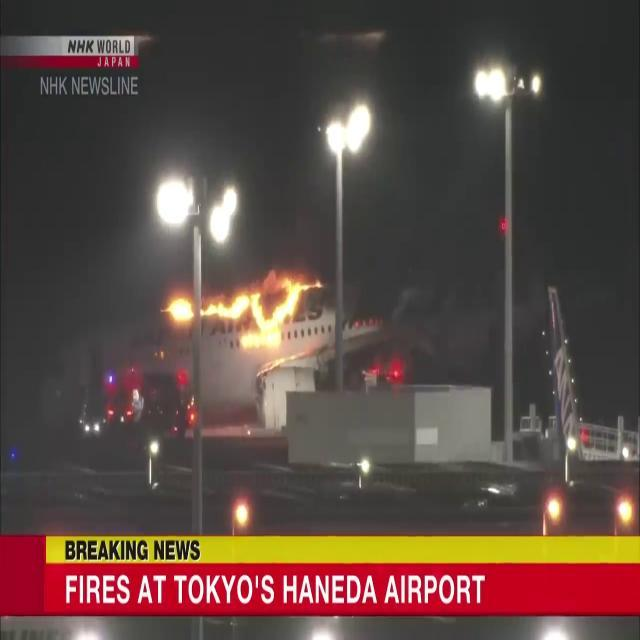Fire: (204, 271, 315, 350)
